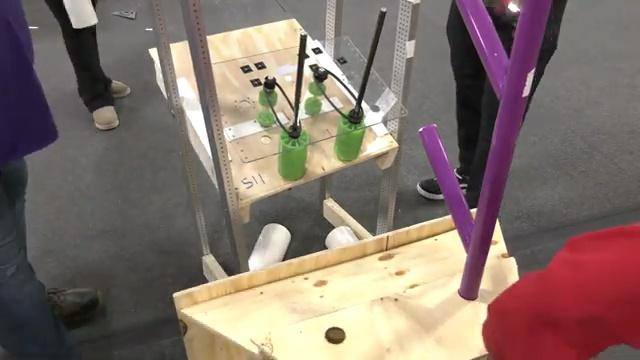CORAL: (246, 221, 291, 271), (326, 226, 359, 251)
